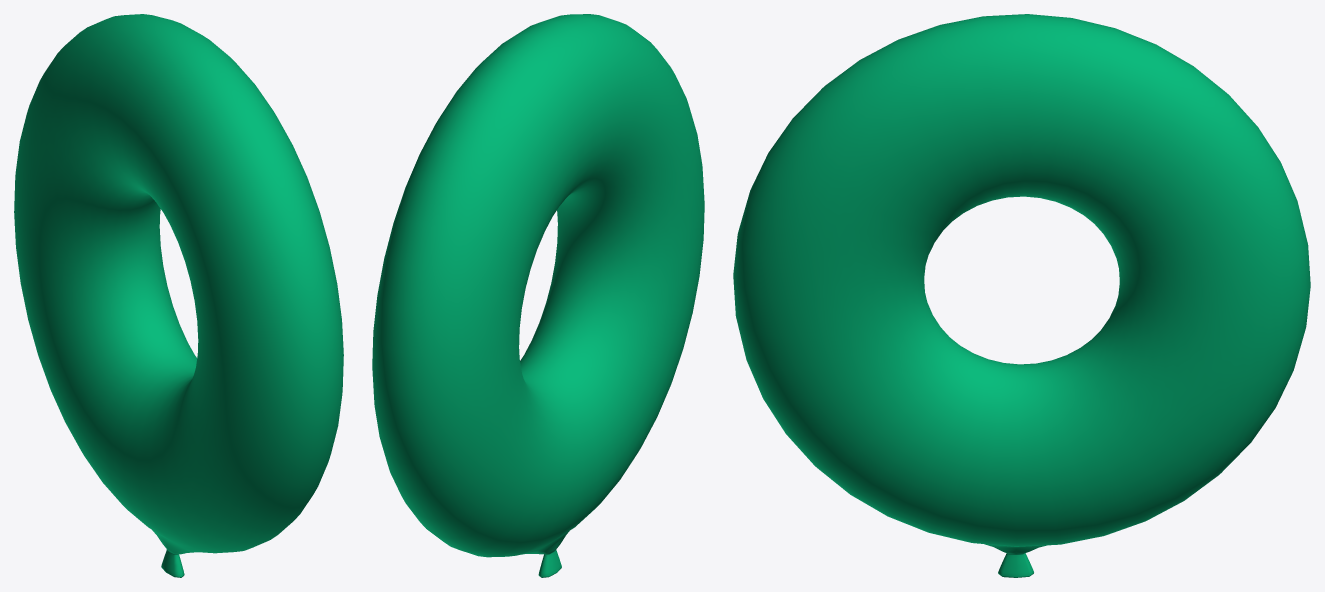
Rendered from Copy of RingBalloon1.1.fbx.
The picture shows the model from 3 angles, left to right: view 1: azimuth 30°, elevation 25°; view 2: azimuth 150°, elevation 25°; view 3: azimuth 270°, elevation 25°; orthographic projection. The views are drawn at different scales.
Visible parts, largest first — view 1: RingBalloon; view 2: RingBalloon; view 3: RingBalloon.
Part boxes in pixels (left/top/right/bottom): RingBalloon: left=14, top=14, right=343, bottom=577; RingBalloon: left=372, top=14, right=704, bottom=577; RingBalloon: left=733, top=14, right=1310, bottom=577.
Size of the model in its own units: 24.69 by 111 by 103.
